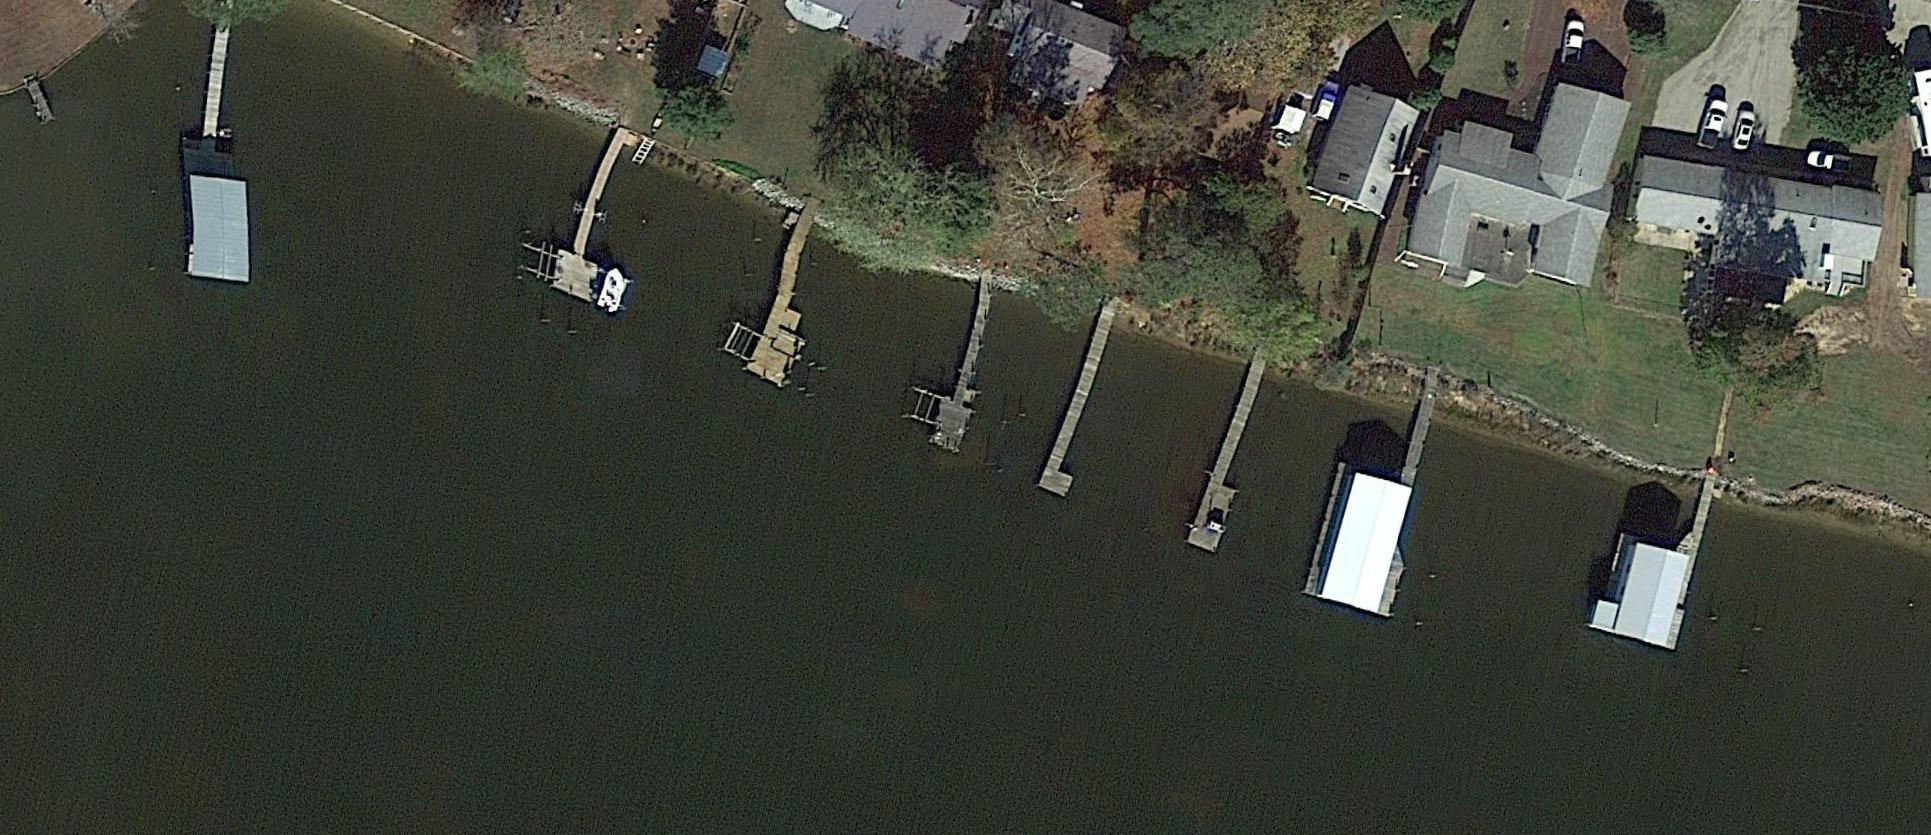harbor: (1300, 404, 1445, 618), (166, 39, 270, 283), (539, 132, 665, 305), (1586, 488, 1711, 651), (732, 224, 846, 389), (1186, 401, 1270, 552), (927, 304, 1004, 454), (1038, 362, 1115, 498)
ship: (595, 264, 629, 318)
